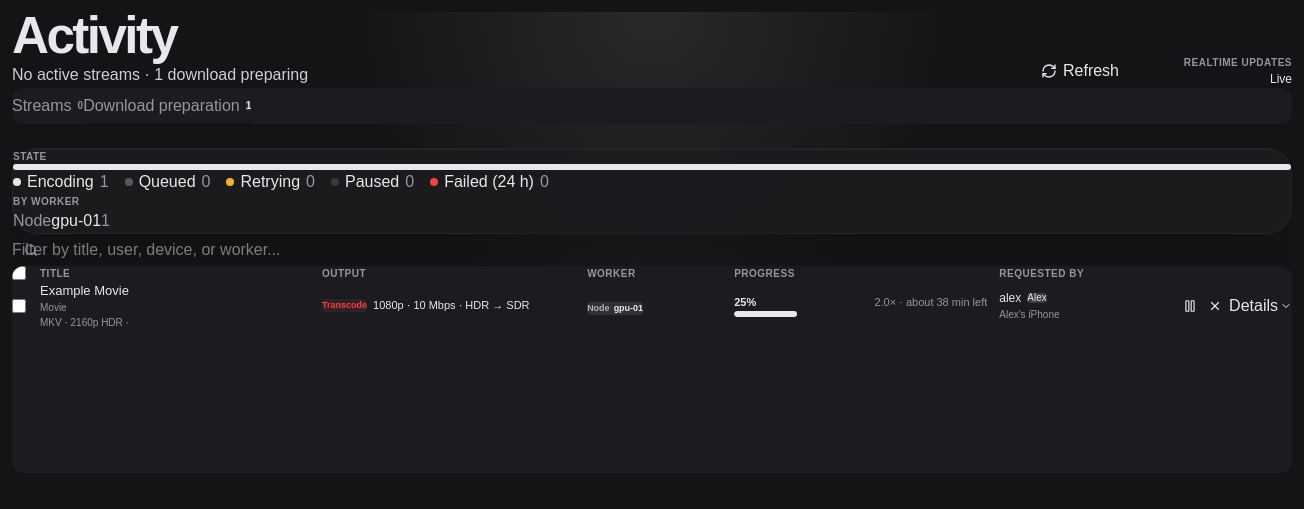
Test: download preparation tab › expands job details with the FFmpeg console and log link
Click the button with aria-label "Details for Example Movie".
click(1261, 306)  # box [1229, 294, 1292, 318]
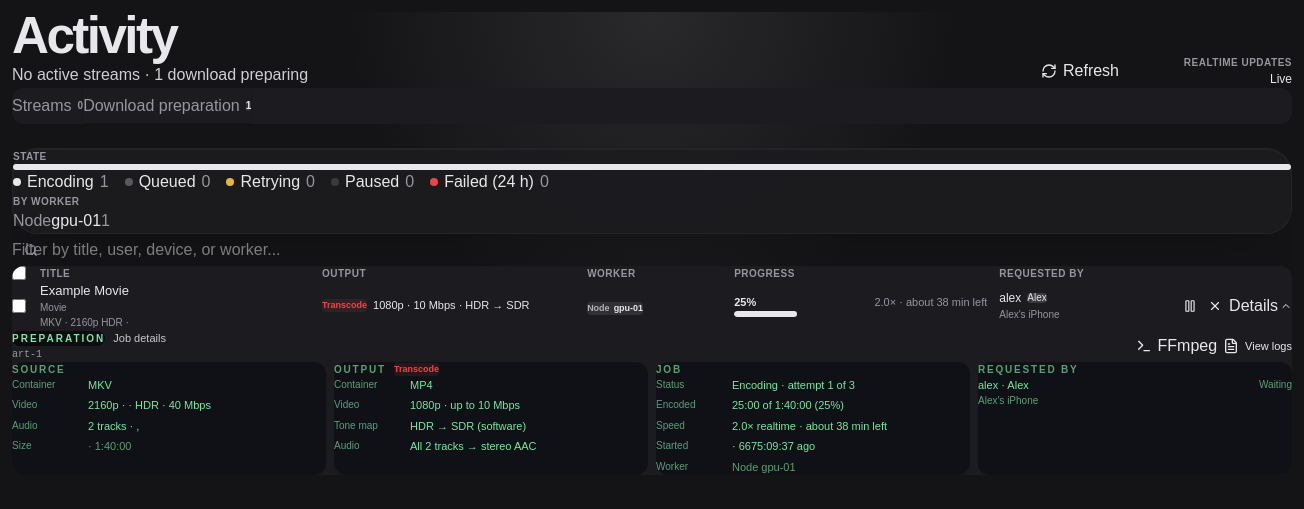
expect the text "All 2 tracks → stereo AAC" is shown: met, box [410, 440, 536, 452]
expect the text "HDR → SDR (software)" is shown: met, box [410, 420, 526, 432]
expect the text "25:00 of 1:40:00 (25%)" is shown: met, box [732, 399, 844, 411]
Click the button "FFmpeg".
click(1176, 346)  # box [1136, 332, 1217, 360]
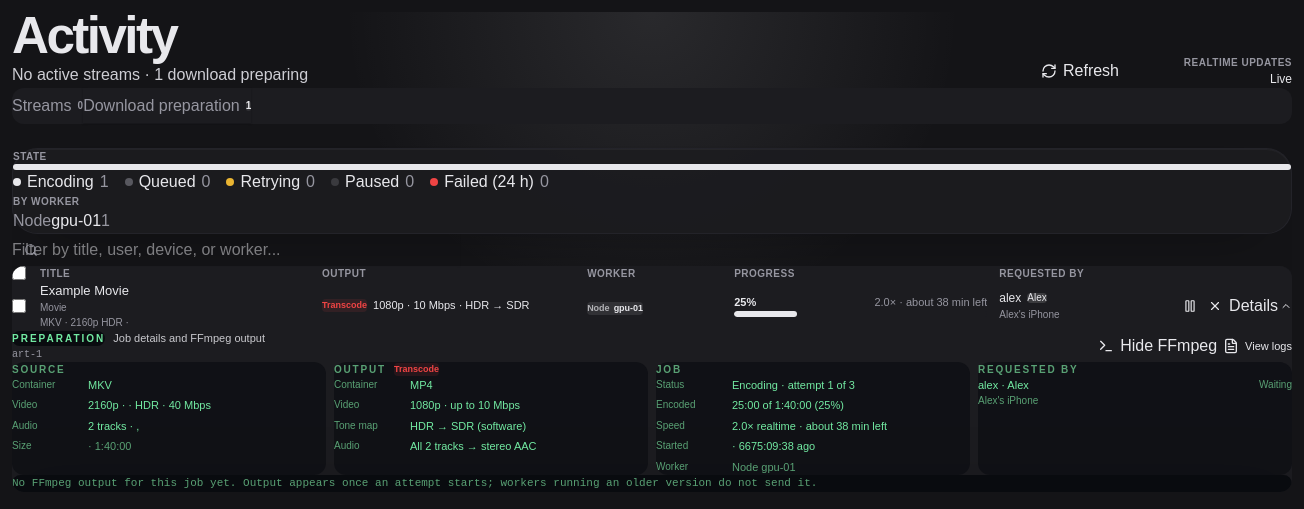
expect the text "No FFmpeg output for this job yet" is shown: met, box [12, 477, 817, 489]
